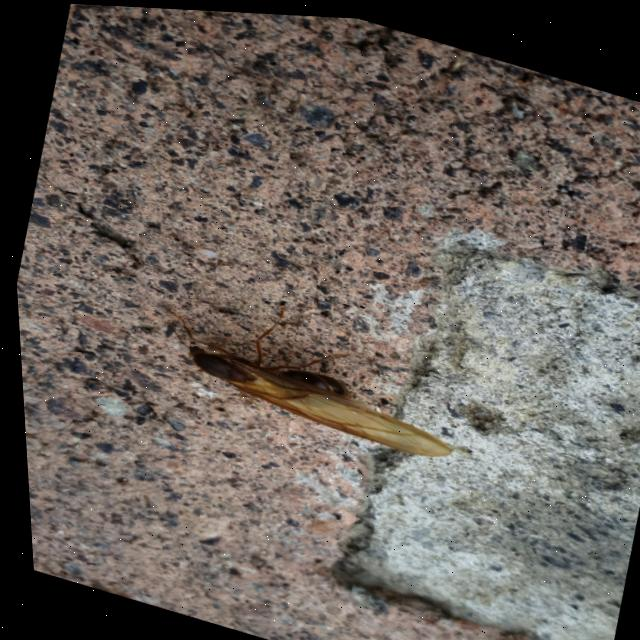Alive-Male-Alate: (147, 276, 469, 462)
